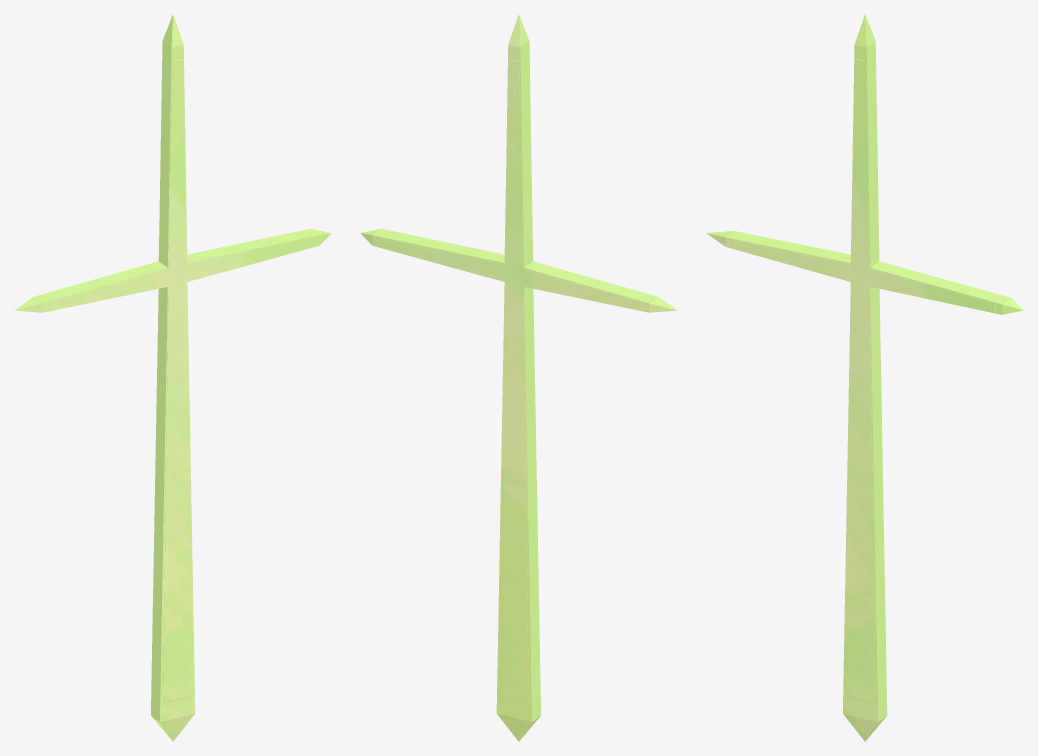
The model's file is cruz-parte-final.glb.
The picture shows the model from 3 angles, left to right: view 1: azimuth 30°, elevation 25°; view 2: azimuth 150°, elevation 25°; view 3: azimuth 330°, elevation 25°; orthographic projection.
Parts seen in each view (by area): view 1: Circle; view 2: Circle; view 3: Circle.
Part boxes in pixels (bbox=[...]): Circle: bbox=[14, 14, 331, 741]; Circle: bbox=[360, 14, 677, 741]; Circle: bbox=[706, 14, 1023, 741].
Bounding box in the file's own units: 8.53 × 18.67 × 0.4373.
Materials: 1 (1 with a texture image).
